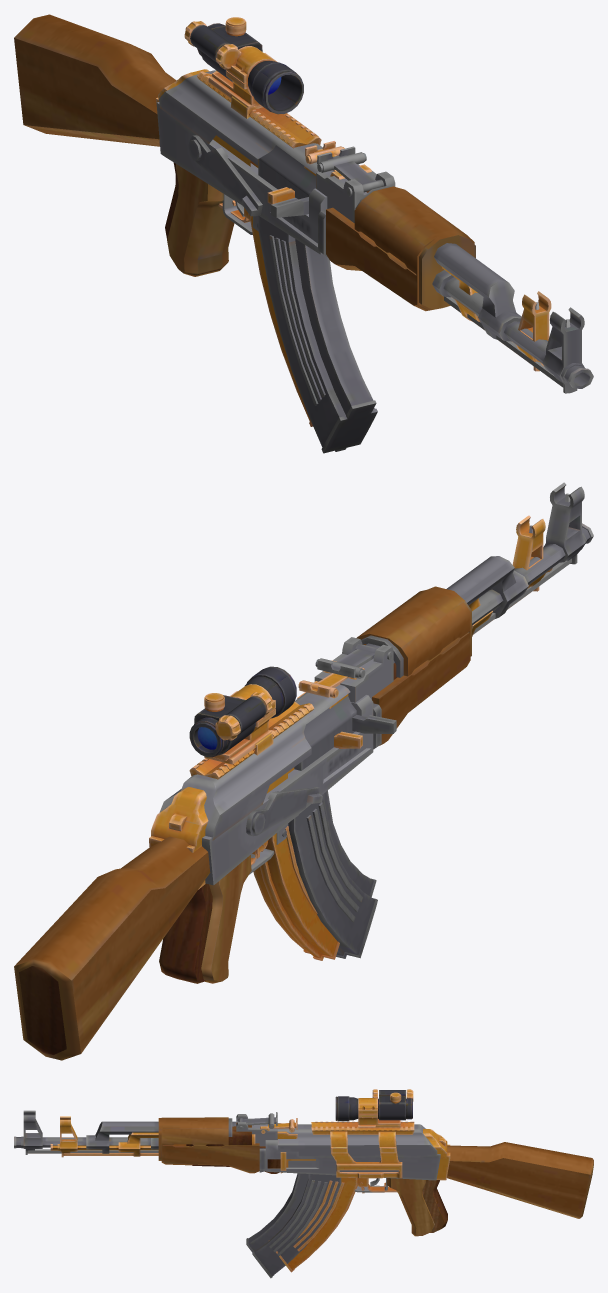
The picture shows the model from 3 angles, top to bottom: view 1: azimuth 30°, elevation 25°; view 2: azimuth 150°, elevation 25°; view 3: azimuth 270°, elevation 25°; orthographic projection. The views are drawn at different scales.
Parts seen in each view (by area): view 1: AK_rifle, PF_AK47_Skin_01, Bolt; view 2: AK_rifle, PF_AK47_Skin_01, Bolt; view 3: AK_rifle, PF_AK47_Skin_01.
Part boxes in pixels (x1,y1,x2,y2): AK_rifle: (14, 14, 593, 453); PF_AK47_Skin_01: (156, 17, 551, 426); Bolt: (258, 145, 315, 217); AK_rifle: (14, 482, 593, 1060); PF_AK47_Skin_01: (19, 515, 552, 1054); Bolt: (294, 696, 396, 770); AK_rifle: (14, 1110, 593, 1278); PF_AK47_Skin_01: (50, 1089, 593, 1272).
Size of the model in its own units: 3.53 by 11.57 by 33.15.
